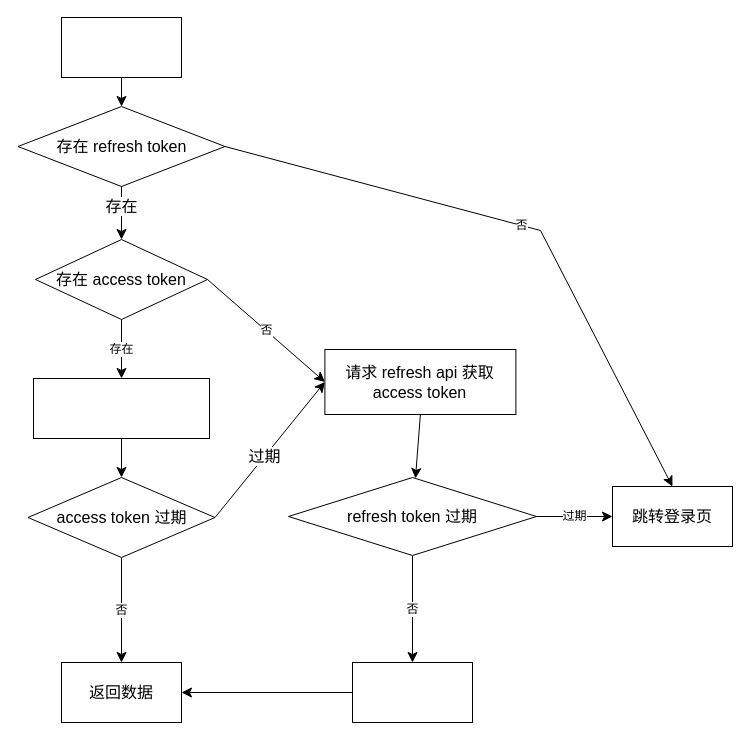
This 750x740 diagram has some shape labels left out. Here are the shapes that lost their labels. From the top down, the centre of each, then its label:
point 121,47: 进入页面
point 121,408: 正常请求请求接口
point 412,692: 重发请求
